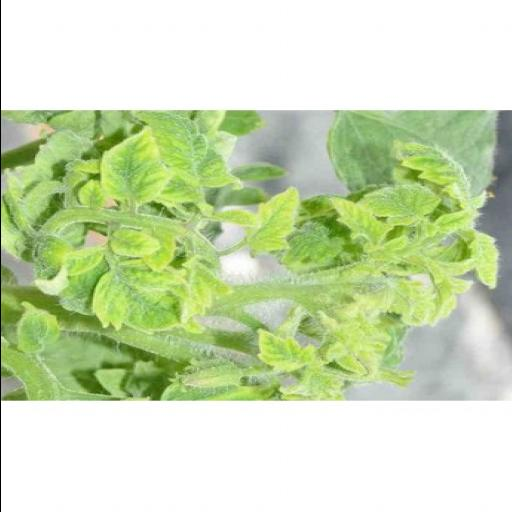disease_tomato: (84, 266, 200, 332), (90, 128, 174, 212), (392, 140, 469, 212), (240, 182, 302, 268), (324, 199, 390, 245), (245, 331, 319, 367), (103, 228, 165, 258)
